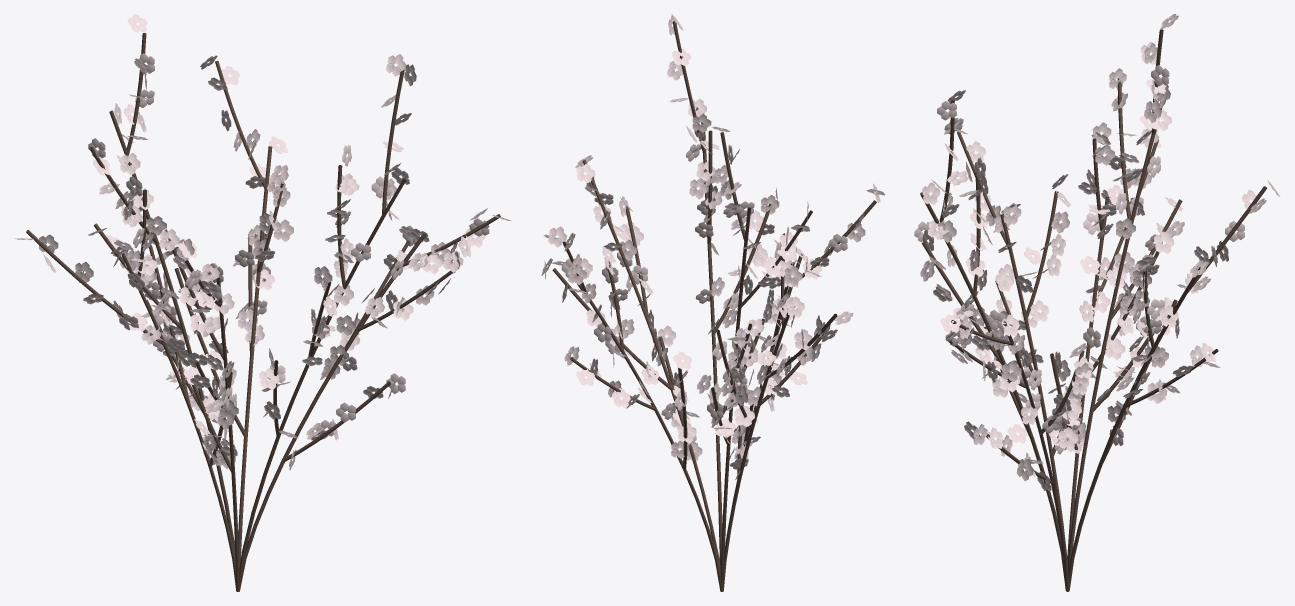
The model's file is blossom-1.glb.
The picture shows the model from 3 angles, left to right: view 1: azimuth 30°, elevation 25°; view 2: azimuth 150°, elevation 25°; view 3: azimuth 270°, elevation 25°; orthographic projection. The views are drawn at different scales.
Visible parts, largest first — view 1: blossom-leaves, blossom-stems; view 2: blossom-leaves, blossom-stems; view 3: blossom-leaves, blossom-stems.
Part boxes in pixels (x1,y1,x2,y2): blossom-leaves: (15, 14, 511, 470); blossom-stems: (26, 33, 500, 591); blossom-leaves: (541, 14, 885, 479); blossom-stems: (552, 21, 876, 591); blossom-leaves: (914, 14, 1280, 491); blossom-stems: (920, 29, 1266, 591).
Bounding box in the file's own units: 0.606 × 0.8097 × 0.4857.
